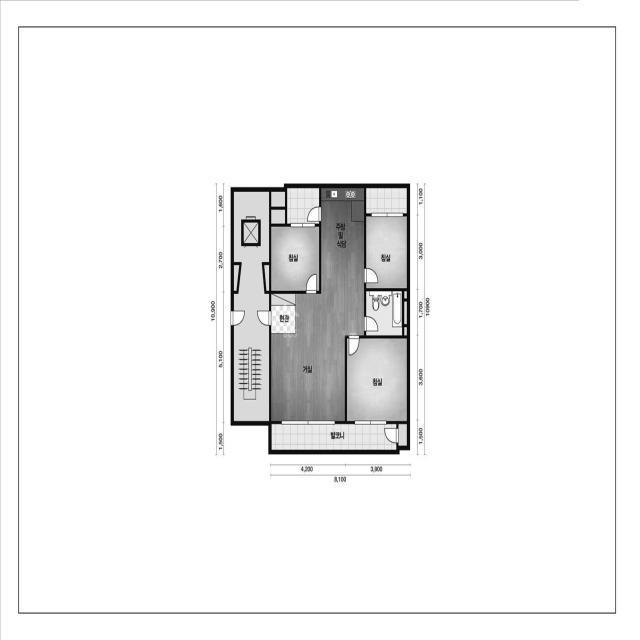space_balconi: (271, 424, 397, 450), (287, 188, 319, 224), (366, 188, 407, 213)
space_bedroom: (347, 338, 407, 421), (271, 226, 319, 291), (366, 216, 407, 289)
space_elevator: (234, 192, 269, 262)
space_front: (271, 294, 296, 334)
space_kitchen: (321, 188, 364, 294)
space_living_room: (271, 293, 364, 422)
space_other: (271, 192, 285, 207), (271, 209, 285, 224), (398, 424, 407, 446), (234, 265, 239, 291), (264, 265, 269, 291), (404, 301, 407, 324), (404, 327, 407, 336), (404, 291, 407, 299)
space_staircase: (234, 262, 269, 421)
space_toilet: (366, 291, 402, 336)
